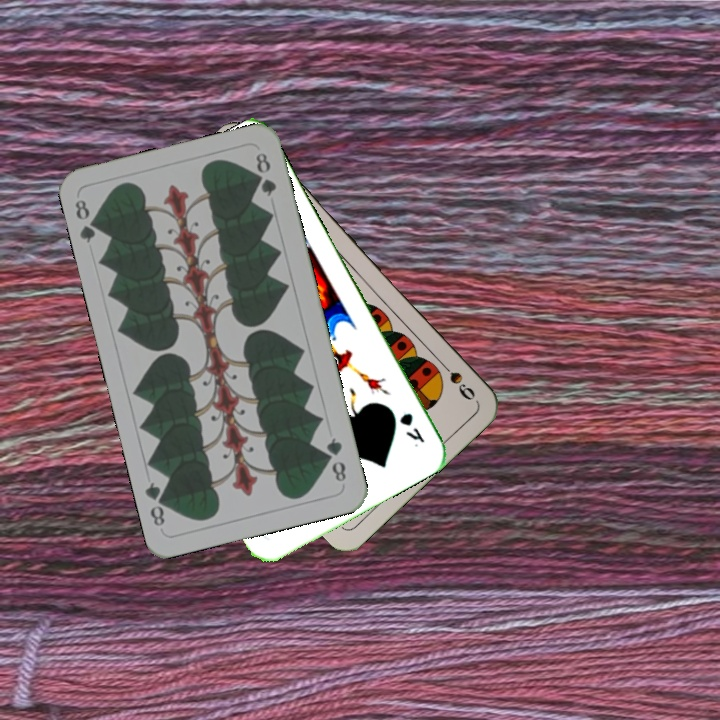G8: (70, 195, 103, 246), (322, 434, 349, 485)
GK: (395, 408, 428, 445)
S9: (433, 355, 478, 403)
